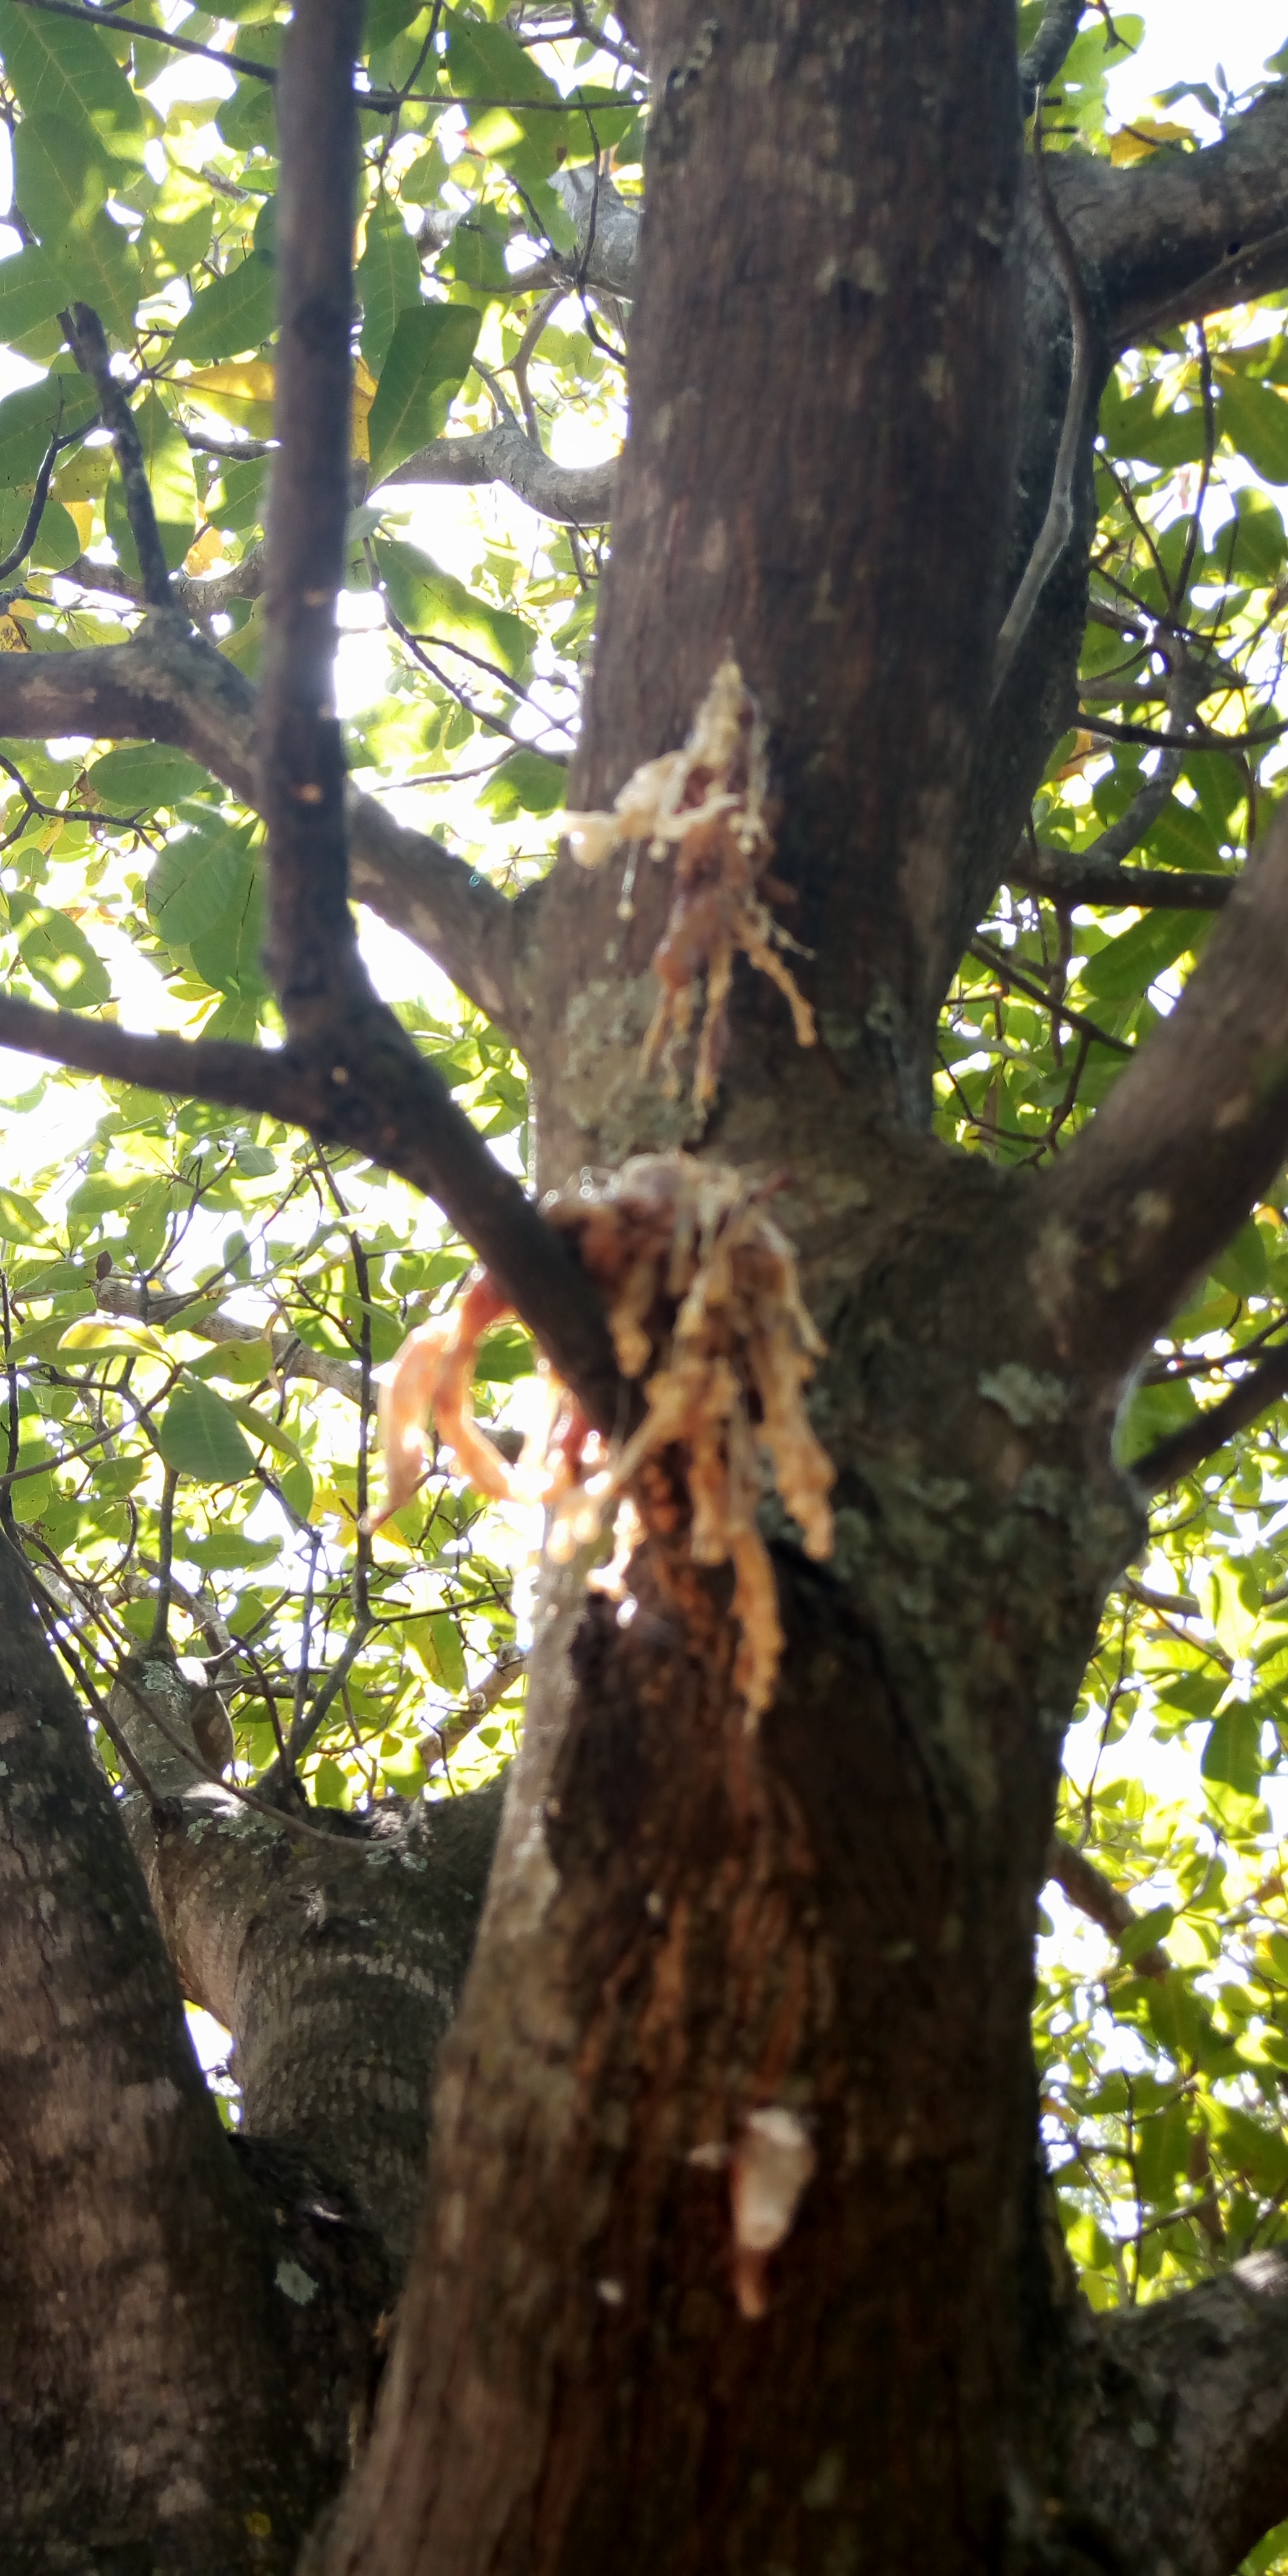Gommose: (483, 1564, 945, 2399)
